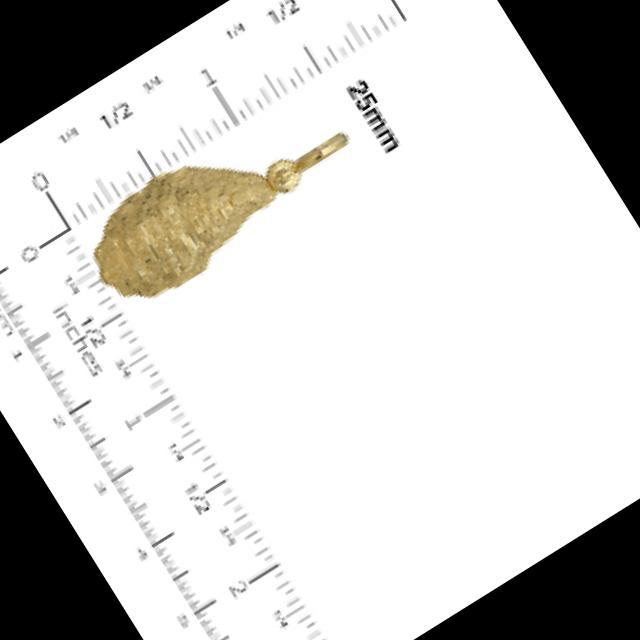Oyster- Indeterminate: (95, 168, 275, 296)
